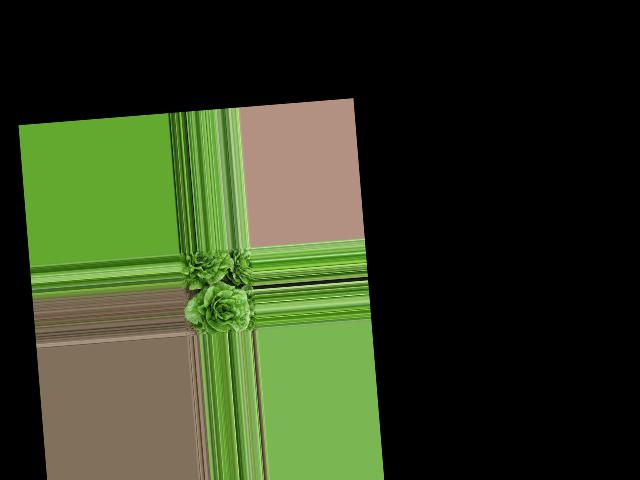lettuce: (180, 247, 235, 286)
